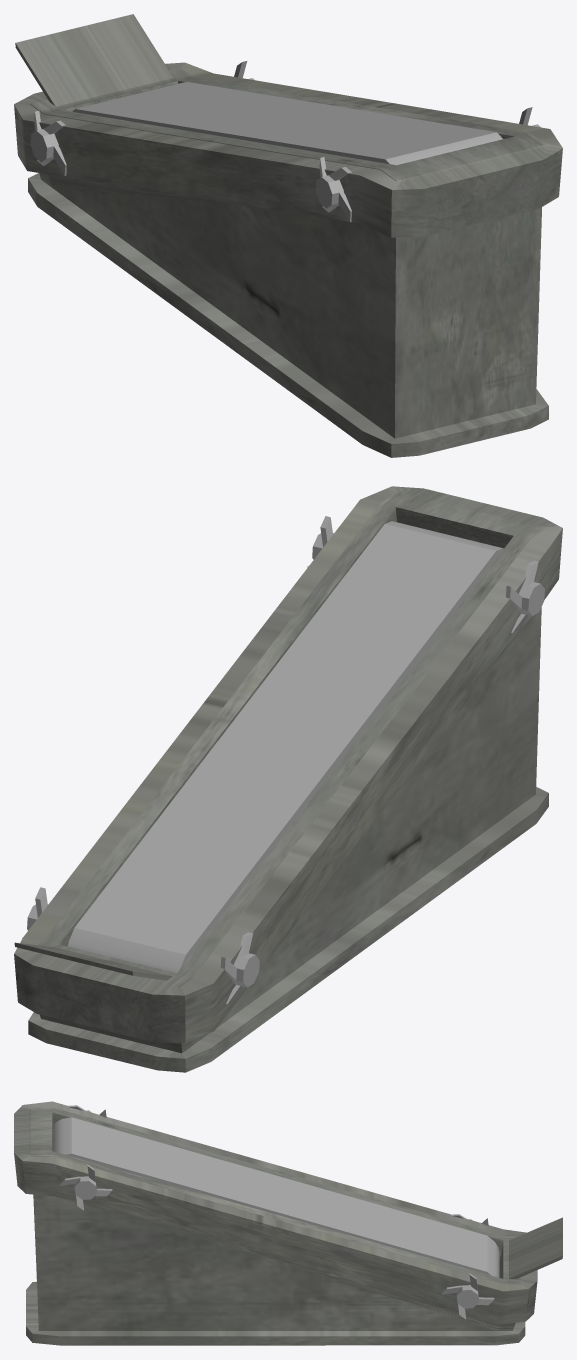
File: upwards.fbx
3 renders of one model, top to bottom at view 1: azimuth 30°, elevation 25°; view 2: azimuth 150°, elevation 25°; view 3: azimuth 270°, elevation 25°, orthographic. The views are drawn at different scales.
Visible parts, largest first — view 1: polySurface4, polySurface9, polySurface11, polySurface13; view 2: polySurface4, polySurface9, polySurface11, polySurface13; view 3: polySurface4, polySurface9, polySurface11, polySurface13.
Part boxes in pixels (<box>): polySurface4: <box>14,14,562,457</box>; polySurface9: <box>53,82,502,205</box>; polySurface11: <box>315,107,540,222</box>; polySurface13: <box>30,61,254,175</box>; polySurface4: <box>14,486,562,1072</box>; polySurface9: <box>67,521,522,984</box>; polySurface11: <box>307,516,544,632</box>; polySurface13: <box>22,887,259,1004</box>; polySurface4: <box>14,1101,562,1345</box>; polySurface9: <box>52,1117,499,1277</box>; polySurface11: <box>59,1105,112,1210</box>; polySurface13: <box>441,1214,494,1319</box>.
Bounding box in the file's own units: 1.53 × 1.87 × 5.03.
2 materials, 1 textured.
